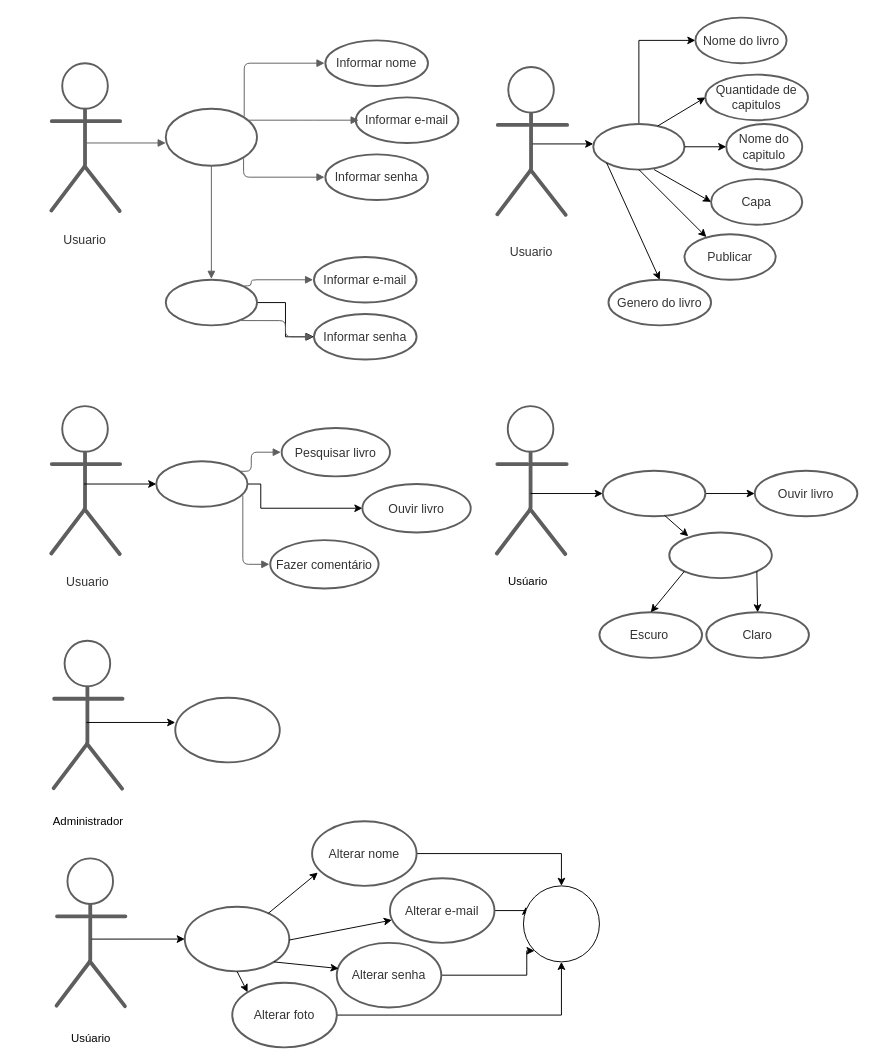
The diagram is 874 pixels wide and 1064 high, and some of its shapes have lost their labels. Each missing label, with the box of its shape:
Acessibilidade: (601, 469, 706, 517)
Cadastrar-se: (164, 107, 257, 166)
Criar livro: (592, 123, 685, 170)
Fazer alterações no site: (174, 696, 280, 763)
Fazer alterações no usúario: (183, 905, 290, 972)
Leitura: (155, 460, 248, 507)
Login: (164, 278, 257, 326)
Reload: (522, 885, 599, 962)
Tema: (668, 531, 772, 579)
